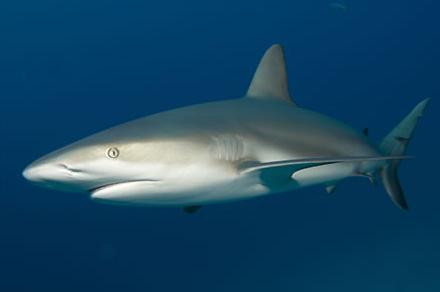Shark -Selachimorpha-: (16, 31, 436, 221)
